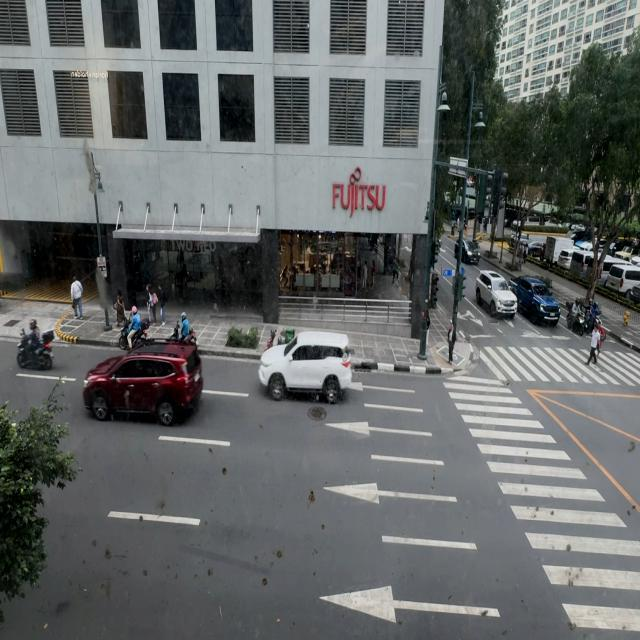waiting: (448, 321, 456, 364)
